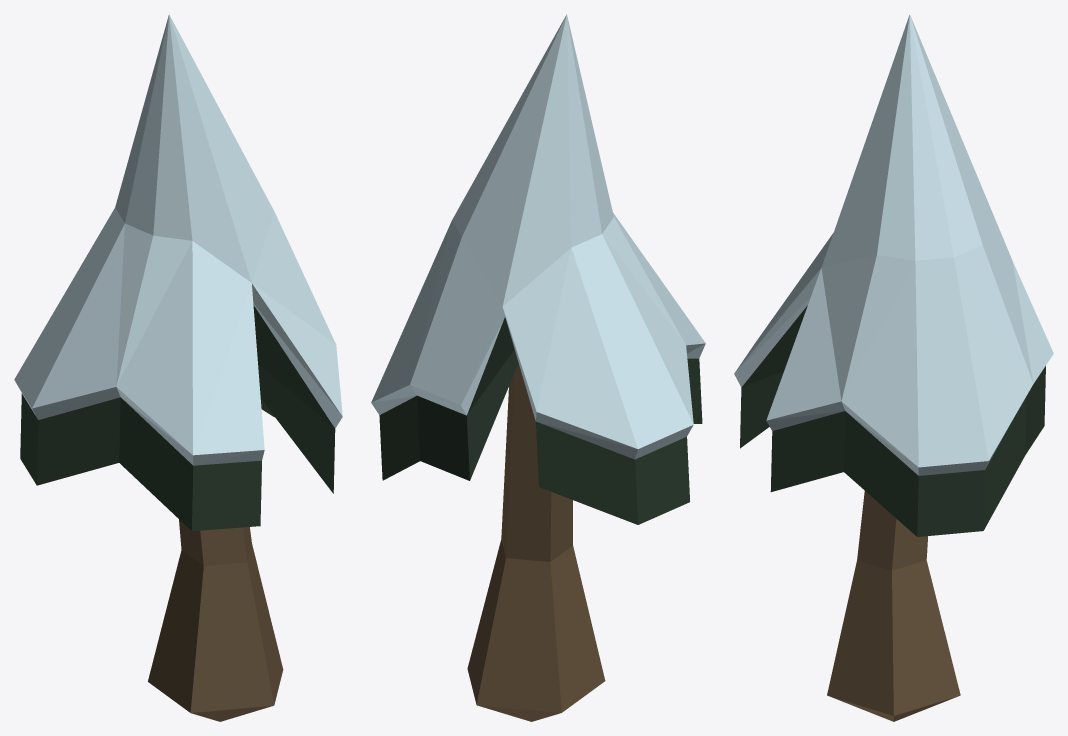
Rendered from SM_Env_Tree_Pine_04_Snow.fbx.
3 views of the same model, side by side, from view 1: azimuth 30°, elevation 25°; view 2: azimuth 150°, elevation 25°; view 3: azimuth 270°, elevation 25° (orthographic). The views are drawn at different scales.
Visible parts, largest first — view 1: SM_Env_Tree_Pine_04_Snow; view 2: SM_Env_Tree_Pine_04_Snow; view 3: SM_Env_Tree_Pine_04_Snow.
Boxes of the visible parts, box(x1,y1,x2,y2) form: SM_Env_Tree_Pine_04_Snow: box(14, 14, 342, 721); SM_Env_Tree_Pine_04_Snow: box(371, 14, 705, 721); SM_Env_Tree_Pine_04_Snow: box(734, 14, 1053, 721).
Size of the model in its own units: 114 by 261 by 110.
